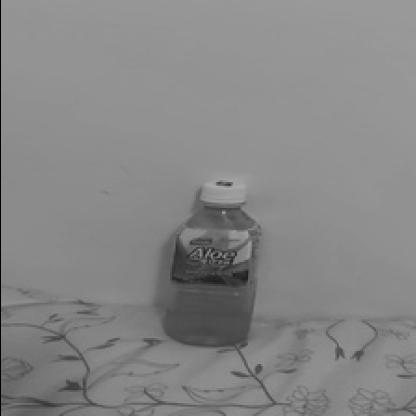plastic_bottles: (160, 164, 262, 356)
